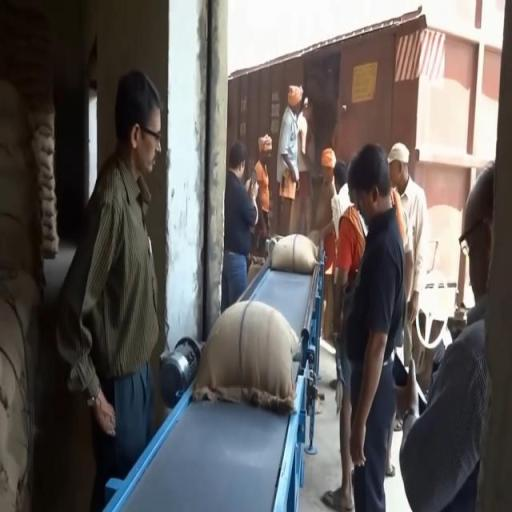c-belt-sack-count: (193, 301, 298, 413), (272, 234, 318, 274)
